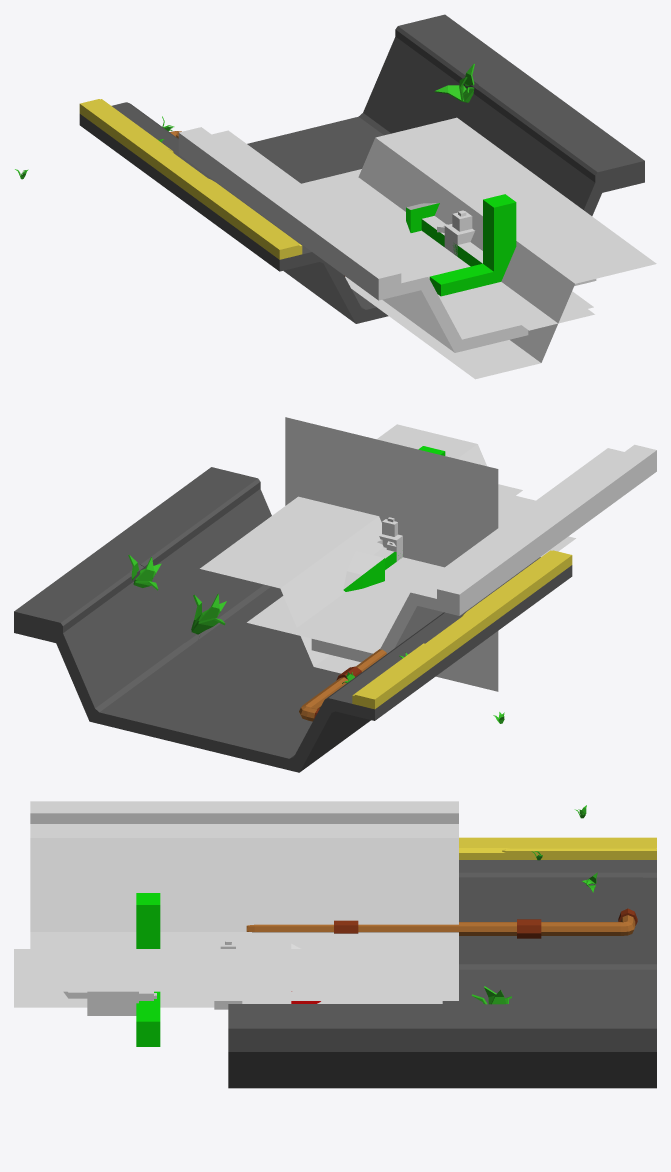
Rendered from Modulo.001 (3).glb.
3 renders of one model, top to bottom at view 1: azimuth 30°, elevation 25°; view 2: azimuth 150°, elevation 25°; view 3: azimuth 270°, elevation 25°, orthographic. The views are drawn at different scales.
Visible parts, largest first — view 1: Modulo.001, Plane.002, Plane.003, Modulo.003, Modulo.002, Cube, Plane.004, Plane.001, Cube.001; view 2: Modulo.001, Modulo.003, Modulo.002, Plane, Plane.003, Plane.002, Plane.001, Plane.004, Cube, Cube.001; view 3: Plane.003, Modulo.001, Modulo.002, Plane.002, Modulo.003, Cube, Plane.004, Plane.001, Cube.004.
Boxes of the visible parts, left/top/right/bottom form: Modulo.001: left=80, top=14, right=644, bottom=312; Plane.002: left=345, top=117, right=656, bottom=379; Plane.003: left=178, top=127, right=528, bottom=352; Modulo.003: left=79, top=27, right=643, bottom=323; Modulo.002: left=83, top=15, right=643, bottom=309; Cube: left=406, top=194, right=516, bottom=296; Plane.004: left=328, top=169, right=593, bottom=323; Plane.001: left=329, top=177, right=594, bottom=330; Cube.001: left=437, top=210, right=474, bottom=256; Modulo.001: left=14, top=467, right=571, bottom=772; Modulo.003: left=15, top=497, right=572, bottom=772; Modulo.002: left=14, top=467, right=551, bottom=771; Plane: left=285, top=417, right=498, bottom=691; Plane.003: left=311, top=444, right=656, bottom=662; Plane.002: left=200, top=424, right=575, bottom=673; Plane.001: left=261, top=484, right=522, bottom=632; Plane.004: left=247, top=494, right=504, bottom=638; Cube: left=343, top=446, right=445, bottom=591; Cube.001: left=377, top=517, right=402, bottom=561; Plane.003: left=30, top=801, right=458, bottom=966; Modulo.001: left=228, top=837, right=656, bottom=1088; Modulo.002: left=228, top=838, right=656, bottom=1086; Plane.002: left=14, top=949, right=442, bottom=1007; Modulo.003: left=228, top=852, right=654, bottom=1088; Cube: left=136, top=893, right=320, bottom=1046; Plane.004: left=30, top=966, right=458, bottom=1000; Plane.001: left=14, top=991, right=442, bottom=997; Cube.004: left=63, top=991, right=156, bottom=1015.
Size of the model in its own units: 41.27 by 19.18 by 46.23.
